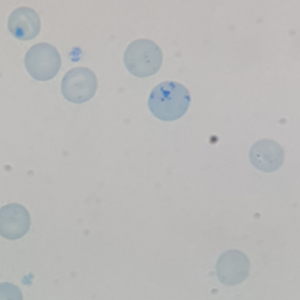aggregate reticulocyte: (146, 79, 192, 123)
erythrocyte: (22, 41, 64, 82), (214, 249, 251, 288), (5, 5, 43, 42), (1, 201, 32, 241)
punctate reticulocyte: (122, 38, 165, 79), (59, 66, 99, 104), (248, 138, 287, 174)
